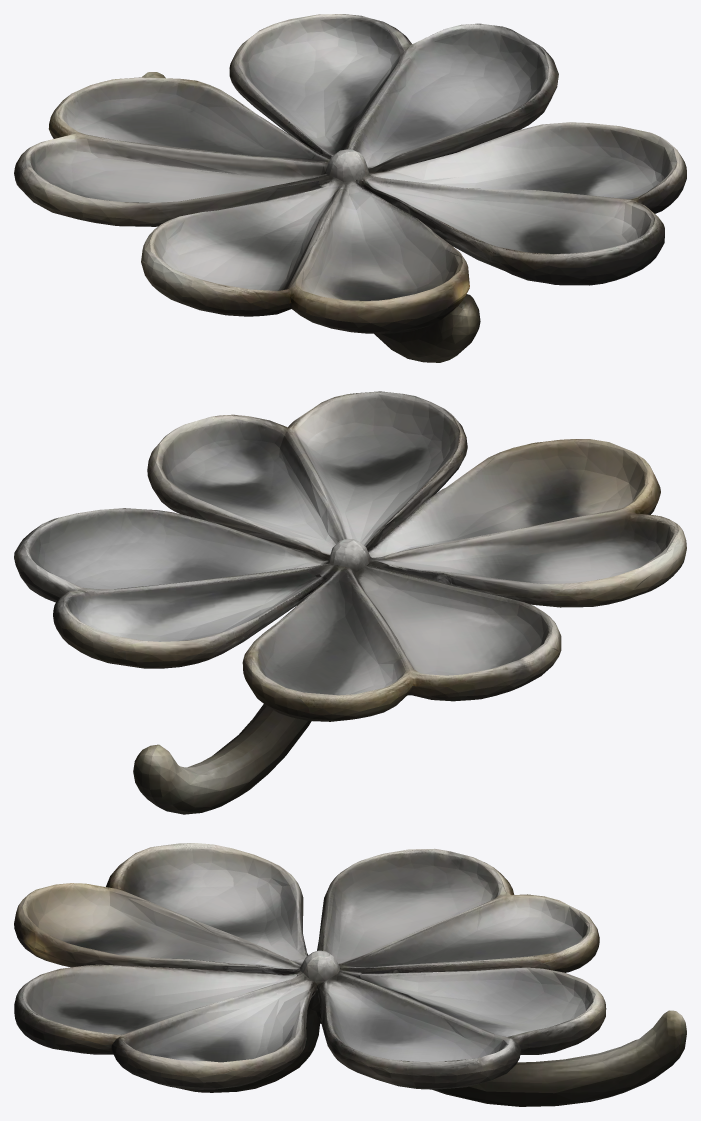
File: paw-print.glb
3 views of the same model, one above another, from view 1: azimuth 30°, elevation 25°; view 2: azimuth 150°, elevation 25°; view 3: azimuth 270°, elevation 25° (orthographic). The views are drawn at different scales.
Visible parts, largest first — view 1: world; view 2: world; view 3: world.
Boxes of the visible parts, x1,y1,x2,y2 form: world: [14, 14, 686, 362]; world: [14, 391, 686, 814]; world: [14, 843, 686, 1106].
Size of the model in its own units: 0.8005 by 0.2558 by 0.9998.
1 material, 1 textured.
